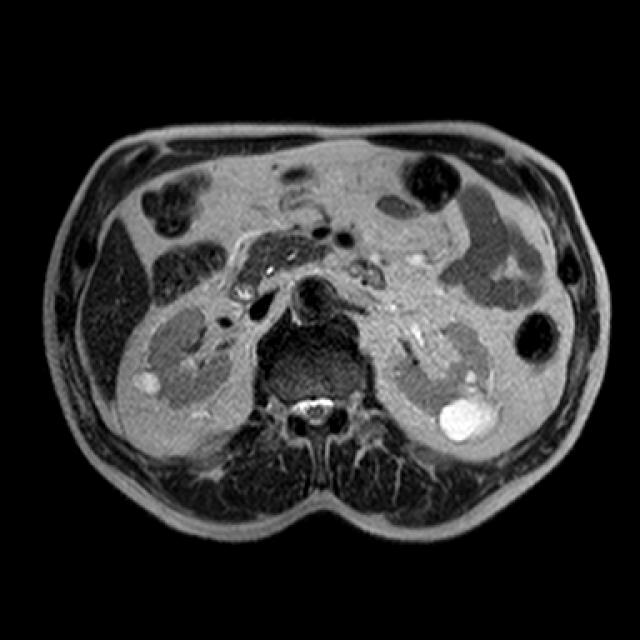sag: (128, 303, 233, 410)
sol: (385, 320, 505, 445)
